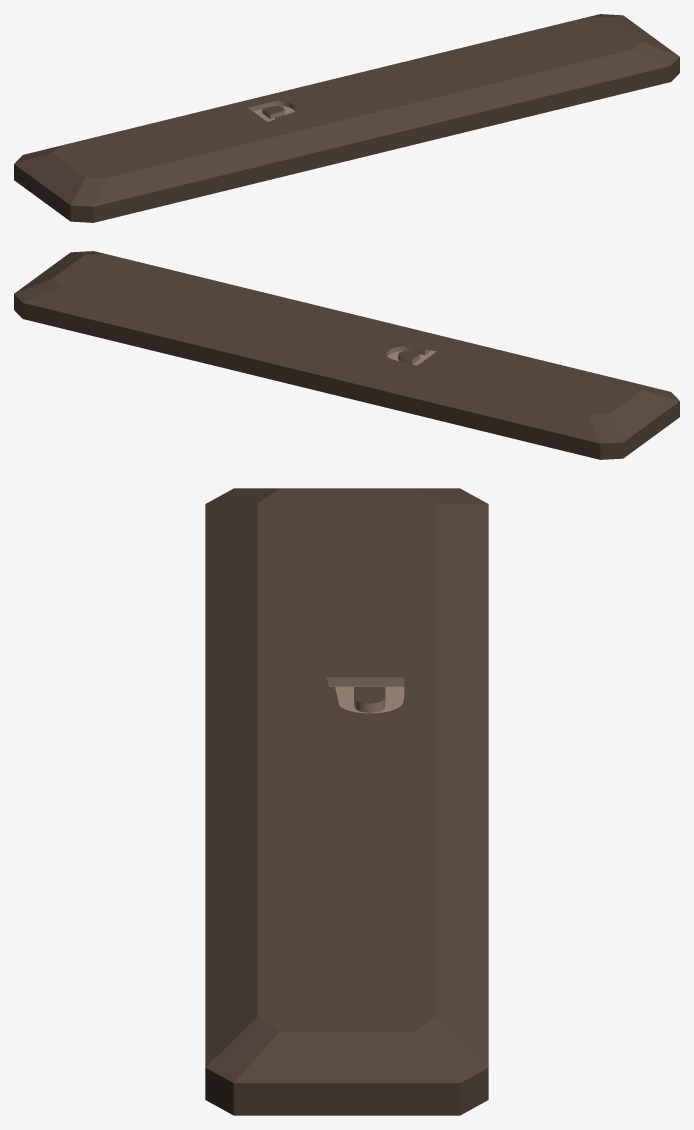
File: PlayButton.fbx
3 views of the same model, one above another, from view 1: azimuth 30°, elevation 25°; view 2: azimuth 150°, elevation 25°; view 3: azimuth 270°, elevation 25° (orthographic). The views are drawn at different scales.
Visible parts, largest first — view 1: button.003; view 2: button.003; view 3: button.003.
Boxes of the visible parts, left/top/right/bottom form: button.003: left=14, top=14, right=679, bottom=222; button.003: left=14, top=251, right=679, bottom=459; button.003: left=205, top=488, right=488, bottom=1115.
Size of the model in its own units: 1097 by 50 by 221.
